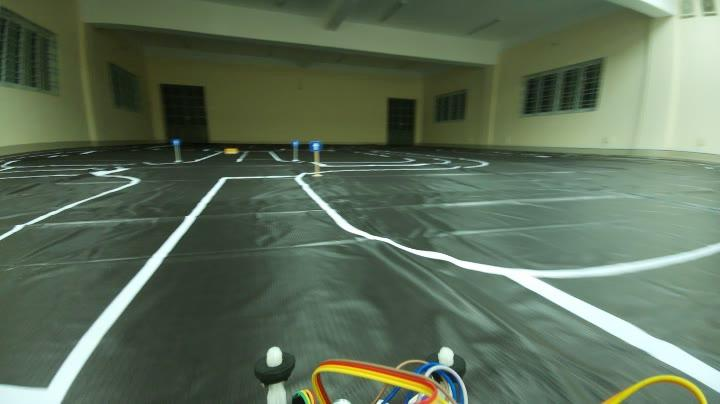onewayroad: (308, 139, 322, 153), (172, 138, 182, 148), (292, 140, 301, 150)
roadblock: (219, 148, 241, 154)
